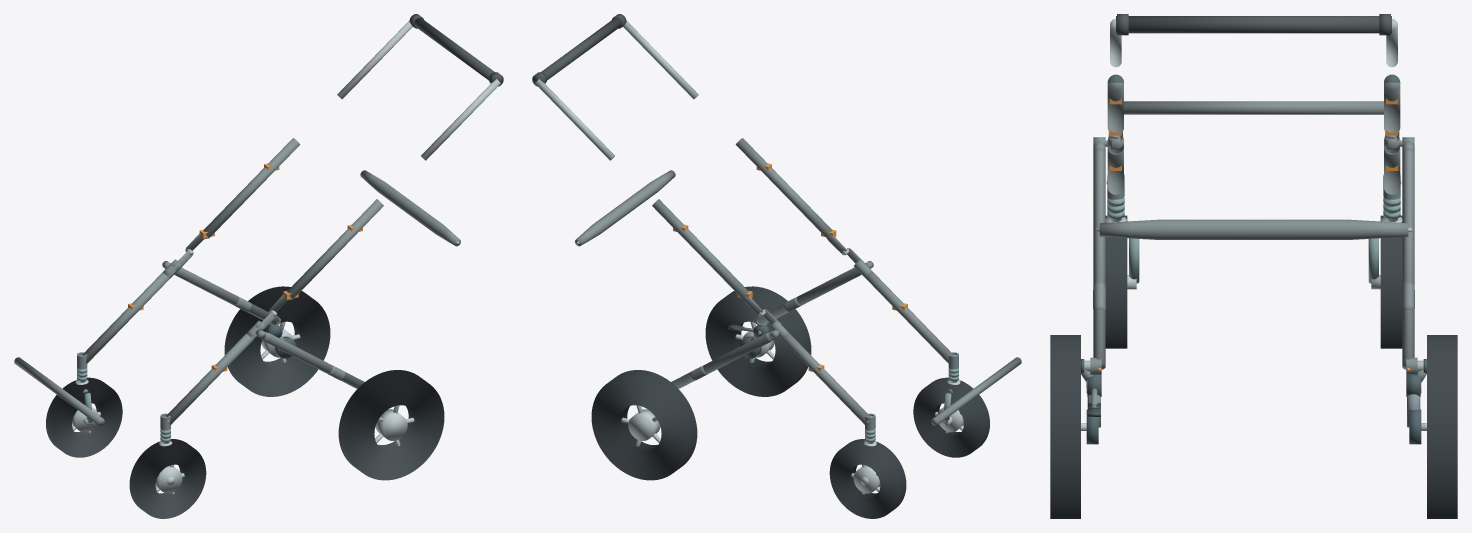
The model's file is w650_state5.glb.
3 views of the same model, side by side, from view 1: azimuth 30°, elevation 25°; view 2: azimuth 150°, elevation 25°; view 3: azimuth 270°, elevation 25° (orthographic). The views are drawn at different scales.
Visible parts, largest first — view 1: RL_tire.015, RR_tire.015, FL_tire.015, FR_tire.015, V46_rearbar.013, main_upper_-1.014, main_upper_1.014, main_lower_1.014, main_lower_-1.014, round_handle.015, V46_rear_leg_-1.013, front_fixed_round_tube.014 (+4 smaller); view 2: RR_tire.015, RL_tire.015, FR_tire.015, FL_tire.015, V46_rearbar.013, main_upper_1.014, main_upper_-1.014, main_lower_-1.014, main_lower_1.014, round_handle.015, V46_rear_leg_1.013, V46_rear_leg_-1.013 (+4 smaller); view 3: V46_rearbar.013, RL_tire.015, RR_tire.015, round_handle.015, front_fixed_round_tube.014, FL_tire.015, FR_tire.015, V46_rear_leg_1.013, V46_rear_leg_-1.013, main_upper_1.014, main_upper_-1.014, main_lower_1.014 (+5 smaller).
Part boxes in pixels (bbox=[...]): RL_tire.015: bbox=[338, 370, 444, 480]; RR_tire.015: bbox=[224, 286, 330, 396]; FL_tire.015: bbox=[129, 439, 206, 518]; FR_tire.015: bbox=[46, 377, 122, 457]; V46_rearbar.013: bbox=[360, 170, 460, 246]; main_upper_-1.014: bbox=[287, 199, 383, 299]; main_upper_1.014: bbox=[203, 138, 300, 238]; main_lower_1.014: bbox=[82, 269, 175, 363]; main_lower_-1.014: bbox=[166, 333, 255, 424]; round_handle.015: bbox=[414, 17, 502, 85]; V46_rear_leg_-1.013: bbox=[263, 332, 364, 388]; front_fixed_round_tube.014: bbox=[14, 357, 104, 425]; RR_tire.015: bbox=[591, 370, 697, 480]; RL_tire.015: bbox=[705, 286, 811, 396]; FR_tire.015: bbox=[829, 439, 906, 518]; FL_tire.015: bbox=[913, 377, 989, 457]; V46_rearbar.013: bbox=[575, 170, 675, 246]; main_upper_1.014: bbox=[652, 199, 748, 299]; main_upper_-1.014: bbox=[735, 138, 832, 238]; main_lower_-1.014: bbox=[860, 269, 953, 363]; main_lower_1.014: bbox=[780, 333, 869, 424]; round_handle.015: bbox=[533, 17, 621, 85]; V46_rear_leg_1.013: bbox=[671, 332, 772, 388]; V46_rear_leg_-1.013: bbox=[757, 267, 861, 325]; V46_rearbar.013: bbox=[1099, 219, 1408, 239]; RL_tire.015: bbox=[1050, 335, 1080, 518]; RR_tire.015: bbox=[1427, 335, 1457, 518]; round_handle.015: bbox=[1116, 16, 1391, 33]; front_fixed_round_tube.014: bbox=[1124, 101, 1383, 114]; FL_tire.015: bbox=[1105, 215, 1127, 348]; FR_tire.015: bbox=[1380, 215, 1402, 348]; V46_rear_leg_1.013: bbox=[1402, 148, 1414, 369]; V46_rear_leg_-1.013: bbox=[1093, 148, 1105, 369]; main_upper_1.014: bbox=[1384, 82, 1400, 132]; main_upper_-1.014: bbox=[1107, 82, 1123, 132]; main_lower_1.014: bbox=[1384, 147, 1400, 194].
Size of the model in its own units: 1.51 by 1.28 by 0.796.
